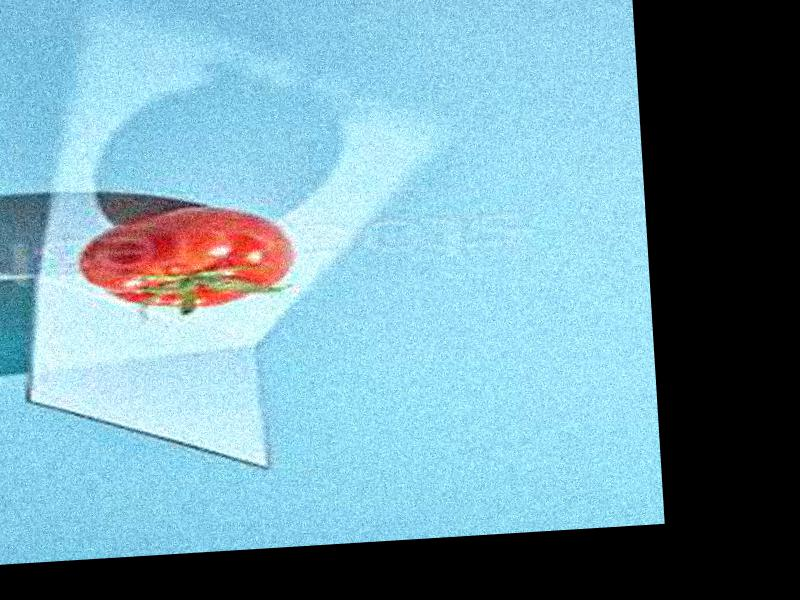Tomato: (75, 201, 295, 314)
